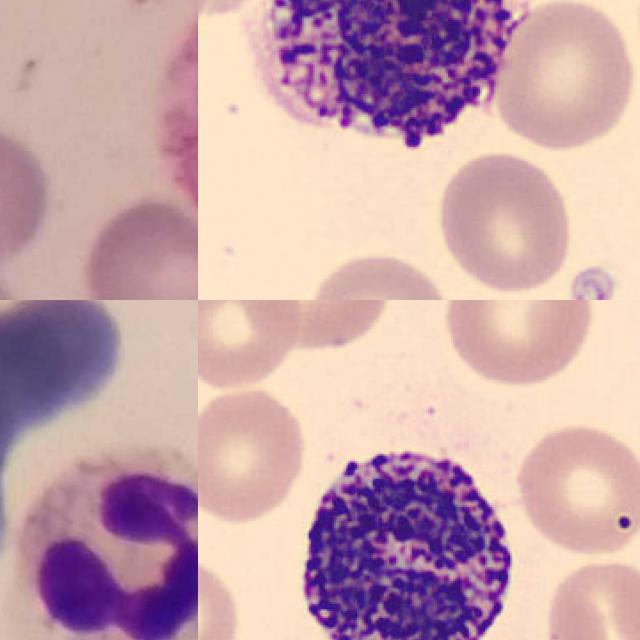Basophil: (227, 0, 535, 176), (277, 434, 526, 640)
Neutrophil: (16, 451, 198, 640)
Platelets: (569, 265, 620, 300)
RBC: (490, 0, 640, 154), (432, 145, 576, 297), (511, 418, 640, 558), (198, 383, 308, 526), (437, 300, 600, 389), (198, 300, 305, 390), (300, 245, 456, 300), (541, 556, 640, 640), (241, 300, 396, 353), (198, 549, 245, 640)
